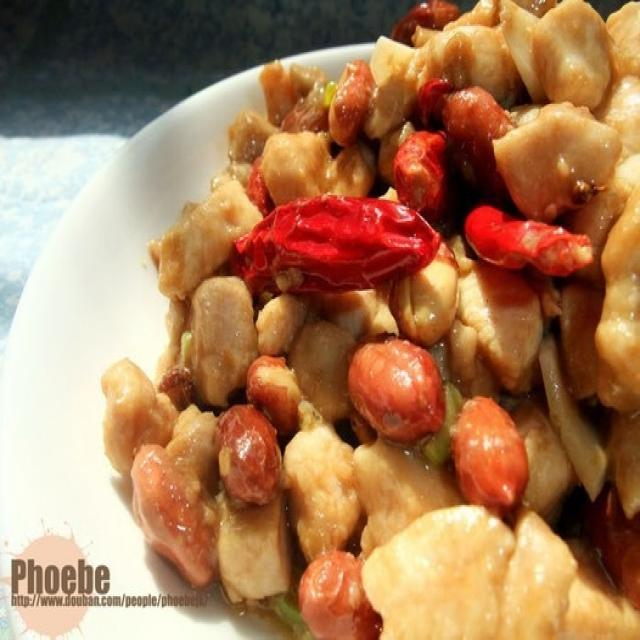鸡肉料理 含炸鸡: (64, 7, 632, 620)
